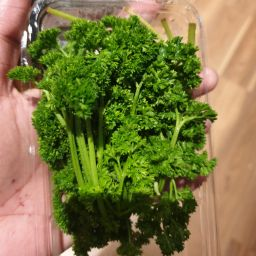Parsley: (110, 12, 229, 256), (9, 22, 184, 161), (89, 16, 194, 247), (56, 52, 220, 188), (7, 33, 184, 152), (33, 24, 111, 215)
